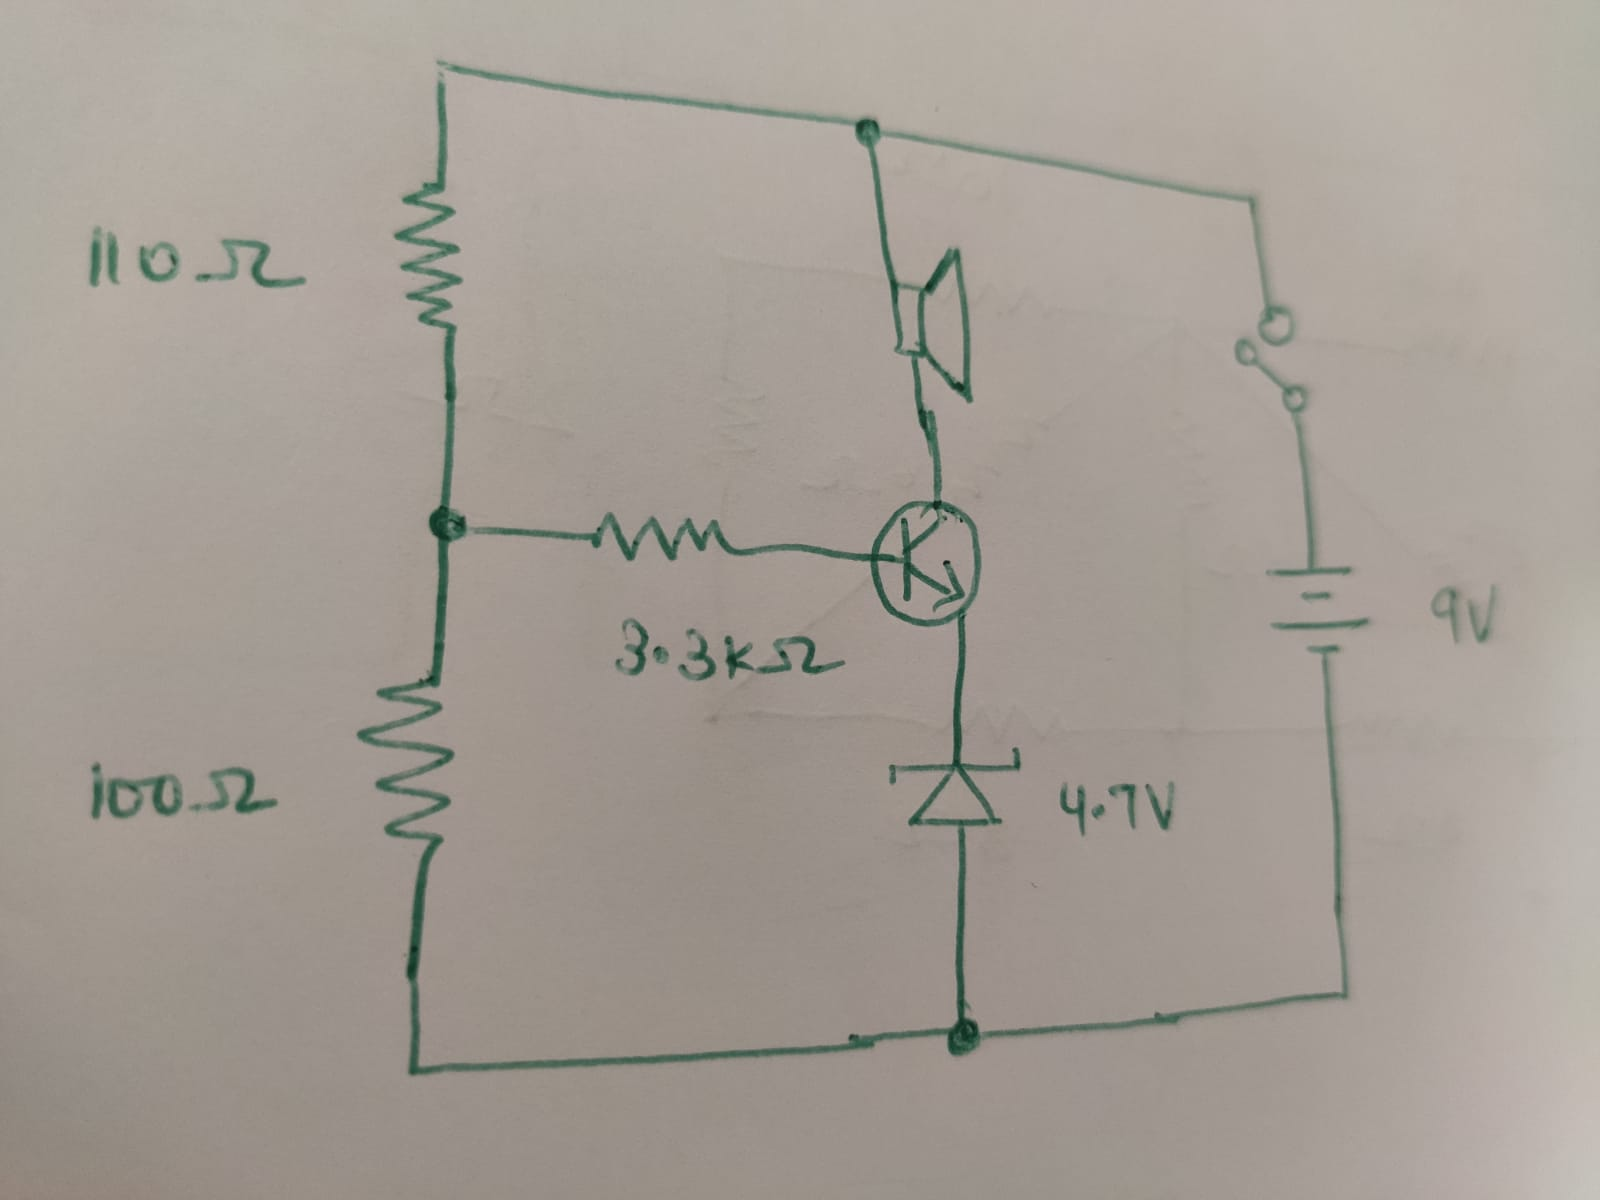diode: (884, 749, 1022, 832)
junction: (936, 1005, 1000, 1063), (425, 500, 472, 548), (426, 50, 466, 95), (1231, 185, 1271, 223), (1324, 977, 1363, 1013), (396, 1050, 430, 1092), (850, 115, 886, 153)
resistor: (355, 671, 459, 851), (392, 178, 466, 335), (583, 511, 736, 562)
speaker: (884, 246, 973, 405)
switch: (1226, 299, 1317, 424)
text: (87, 224, 312, 294), (621, 615, 848, 681), (83, 758, 273, 821), (1054, 778, 1179, 829), (1430, 585, 1502, 644)
transistor: (867, 495, 983, 626)
voltage.dc: (1264, 562, 1364, 662)
